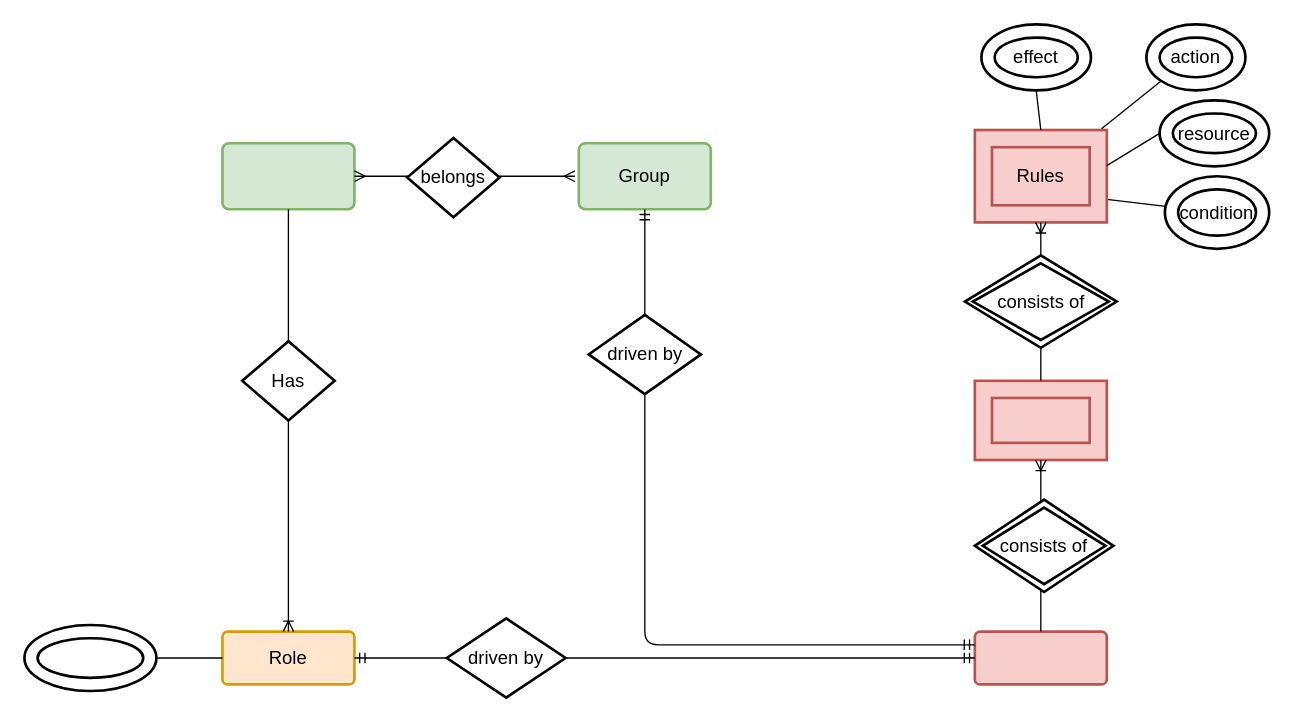
This 1292x721 diagram has some shape labels left out. The box of each missing label's shape, as (x1, y1, x2, y2) in pixels:
Policy: (973, 379, 1107, 461)
PolicySet: (973, 630, 1107, 685)
RoleType: (22, 623, 157, 692)
User: (220, 141, 355, 210)
